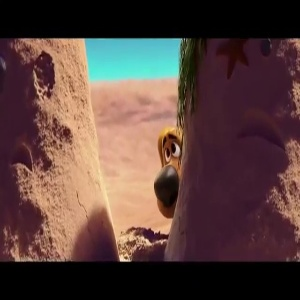Scooby: (149, 118, 183, 220)
